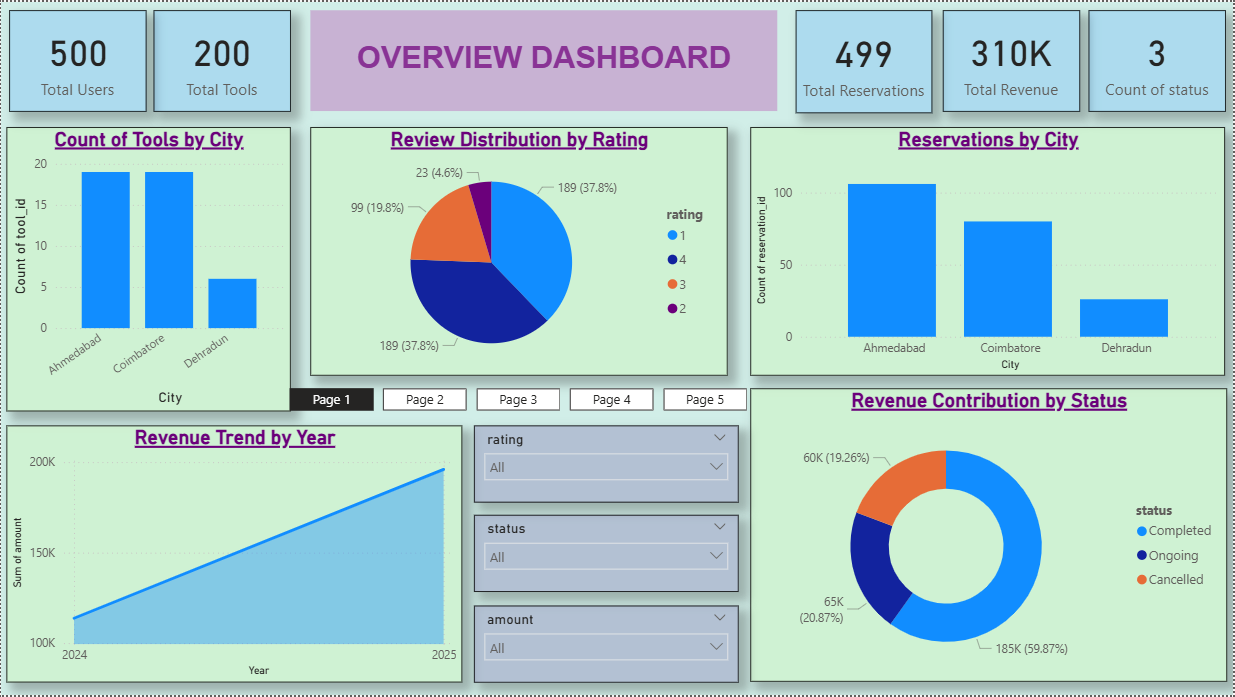

The dashboard page shown, as its layout file describes it:
{"tool":"powerbi","page":{"name":"Page 1","canvas":[1280,720],"ordinal":0},"visuals":[{"type":"columnChart","title":"Count of Tools by City","fields":{"Y":["CountNonNull(Reviews.tool_id)"],"Category":["Locations.City"]},"box":[5,130,295,295],"z":0},{"type":"pieChart","title":"Review Distribution by Rating","fields":{"Category":["Reviews.rating"],"Y":["CountNonNull(Reviews.reviewer_id)"]},"box":[321.7,130,433.3,258.3],"z":1000},{"type":"columnChart","title":"Reservations by City","fields":{"Y":["CountNonNull(Reservations.reservation_id)"],"Category":["Locations.City"]},"box":[778.3,130,493.3,258.3],"z":2000},{"type":"areaChart","title":"Revenue Trend by Year","fields":{"Y":["Sum(Transactions.amount)"],"Category":["Transactions.txn_date.Variation.Date Hierarchy.Year"]},"box":[5,440,473.3,266.7],"z":3000},{"type":"donutChart","title":"Revenue Contribution by Status","fields":{"Y":["Sum(Transactions.amount)"],"Category":["Reservations.status"]},"box":[778.3,401.7,495,305],"z":4000},{"type":"pageNavigator","box":[300,401.7,478.3,23.3],"z":5000},{"type":"card","fields":{"Values":["CountNonNull(Users.user_id)"]},"box":[9,9,142.3,105.3],"z":6000},{"type":"card","fields":{"Values":["CountNonNull(Tools.tool_id)"]},"box":[159.1,9,142.3,105.3],"z":7000},{"type":"card","fields":{"Values":["CountNonNull(Transactions.reservation_id)"]},"box":[825,8.3,141.7,106.7],"z":8000},{"type":"card","fields":{"Values":["Sum(Transactions.amount)"]},"box":[979,9,142.3,105.3],"z":9000},{"type":"card","fields":{"Values":["Count(Reservations.status)"]},"box":[1130.2,9,142.3,105.3],"z":10000},{"type":"textbox","box":[321.7,8.3,485,105],"z":11000},{"type":"slicer","fields":{"Values":["Reviews.rating"]},"box":[491.7,440,275,80],"z":12000},{"type":"slicer","fields":{"Values":["Reservations.status"]},"box":[491.7,533.3,275,80],"z":13000},{"type":"slicer","fields":{"Values":["Transactions.amount"]},"box":[491.7,626.7,275,80],"z":14000}]}

Visuals, with their boxes in screenshot pixels (x1, y1, x2, y2), scaled from the page's 1280x720 canvas onto the 1235x697 screenshot:
"Count of Tools by City" columnChart: [5, 126, 289, 411]
"Review Distribution by Rating" pieChart: [310, 126, 728, 376]
"Reservations by City" columnChart: [751, 126, 1227, 376]
"Revenue Trend by Year" areaChart: [5, 426, 461, 684]
"Revenue Contribution by Status" donutChart: [751, 389, 1229, 684]
pageNavigator: [289, 389, 751, 411]
card - CountNonNull(Users.user_id): [9, 9, 146, 111]
card - CountNonNull(Tools.tool_id): [154, 9, 291, 111]
card - CountNonNull(Transactions.reservation_id): [796, 8, 933, 111]
card - Sum(Transactions.amount): [945, 9, 1082, 111]
card - Count(Reservations.status): [1090, 9, 1228, 111]
textbox: [310, 8, 778, 110]
slicer - Reviews.rating: [474, 426, 740, 503]
slicer - Reservations.status: [474, 516, 740, 594]
slicer - Transactions.amount: [474, 607, 740, 684]
